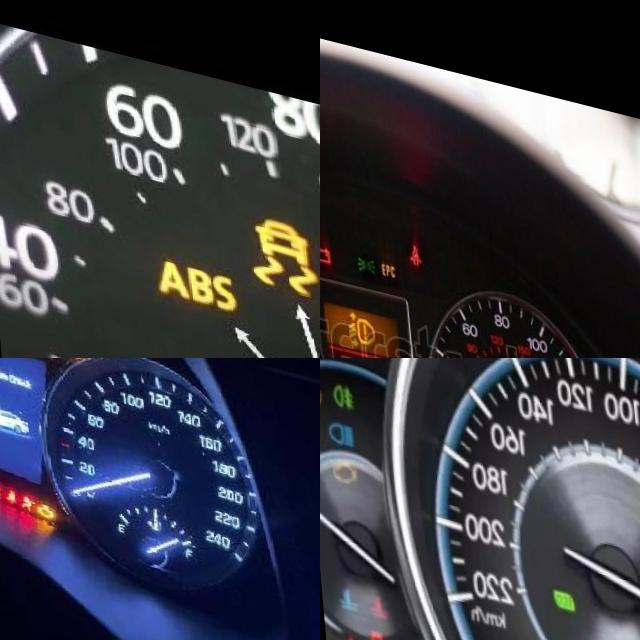High Engine Coolant Temperature: (359, 590, 379, 617)
Seat Belt: (333, 632, 348, 640)
